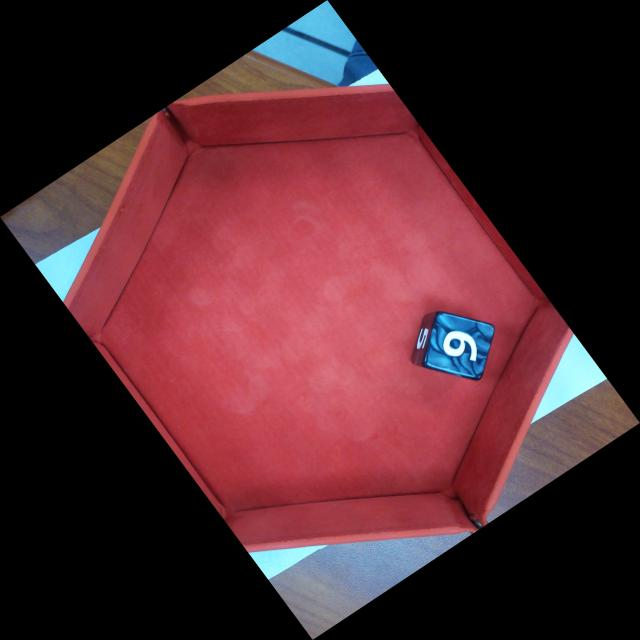dice: (427, 312, 495, 378)
